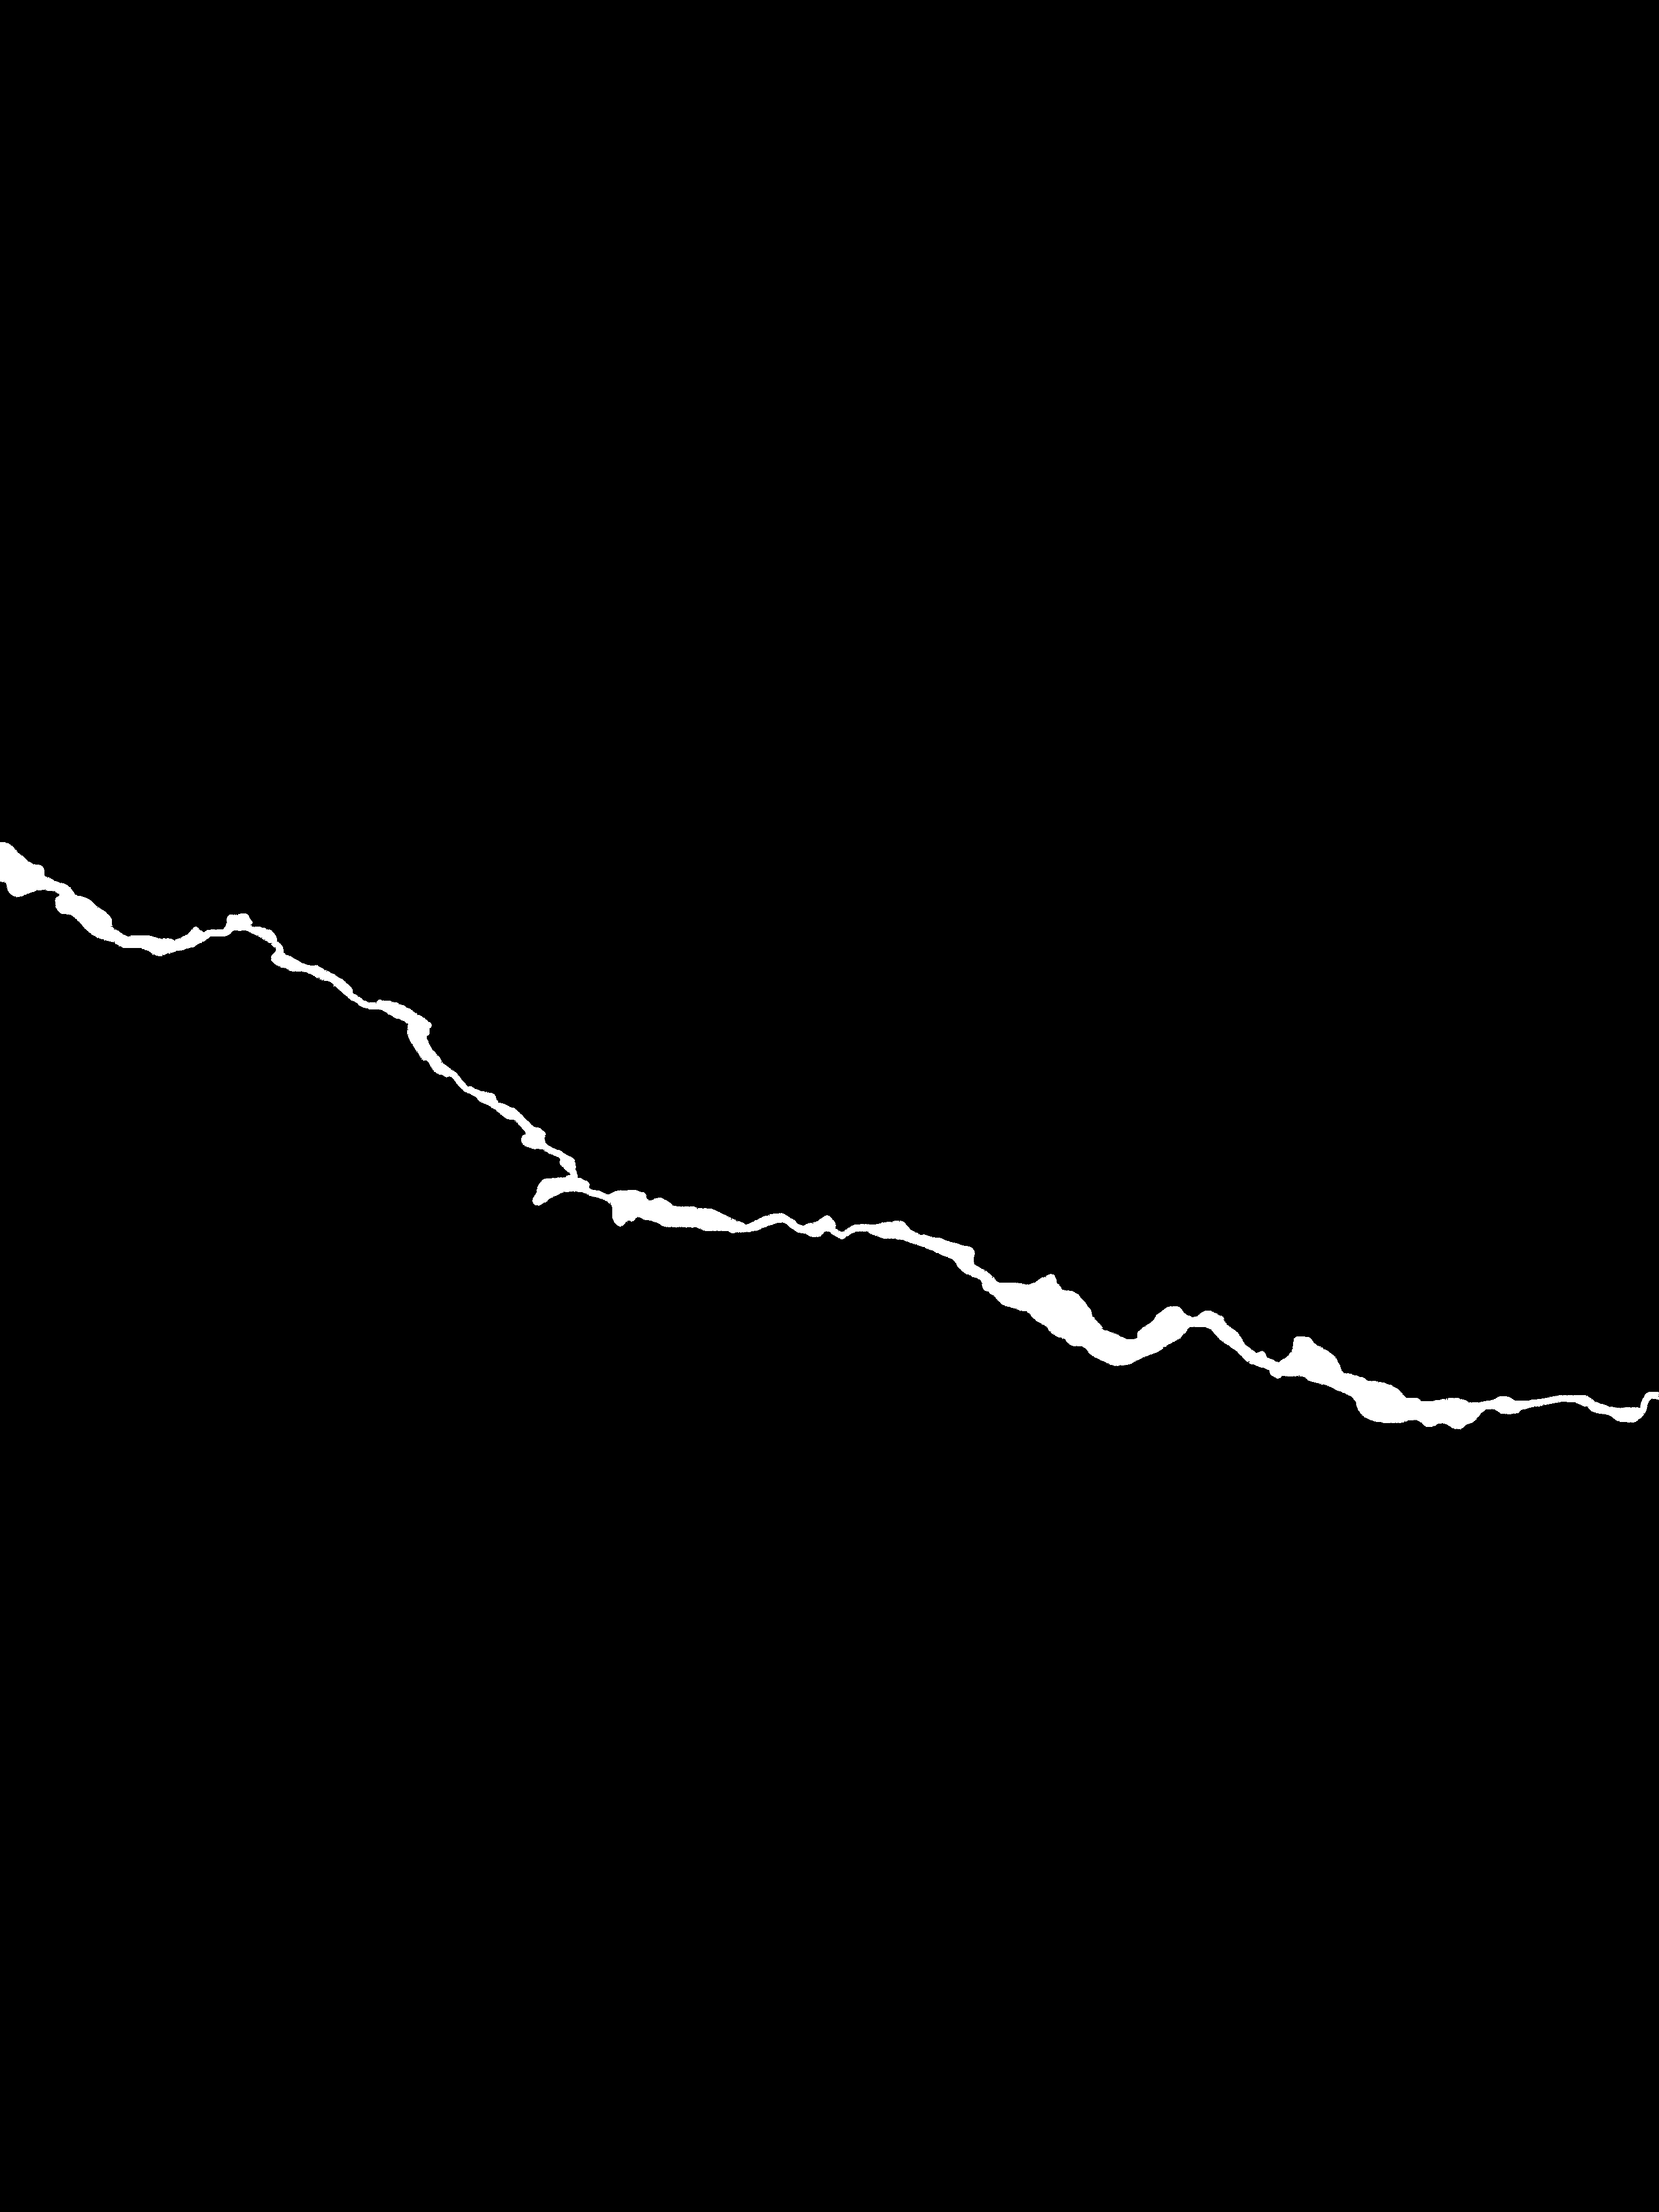Crack: (0, 822, 1659, 1453)
